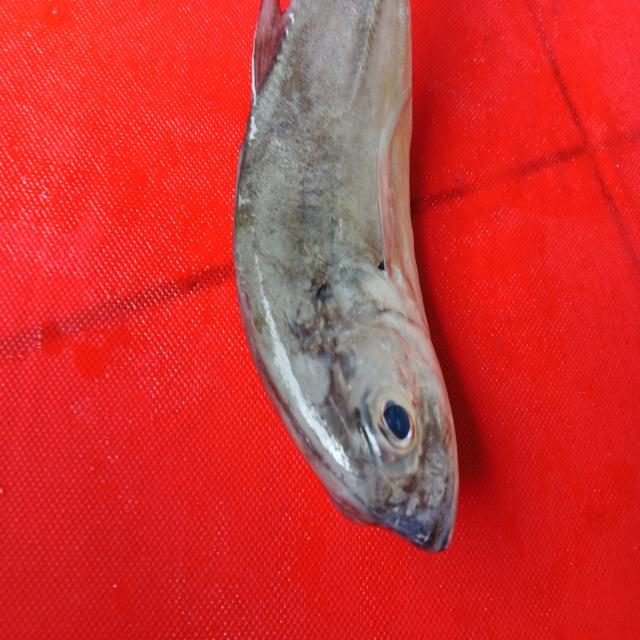ikan: (231, 1, 461, 554)
